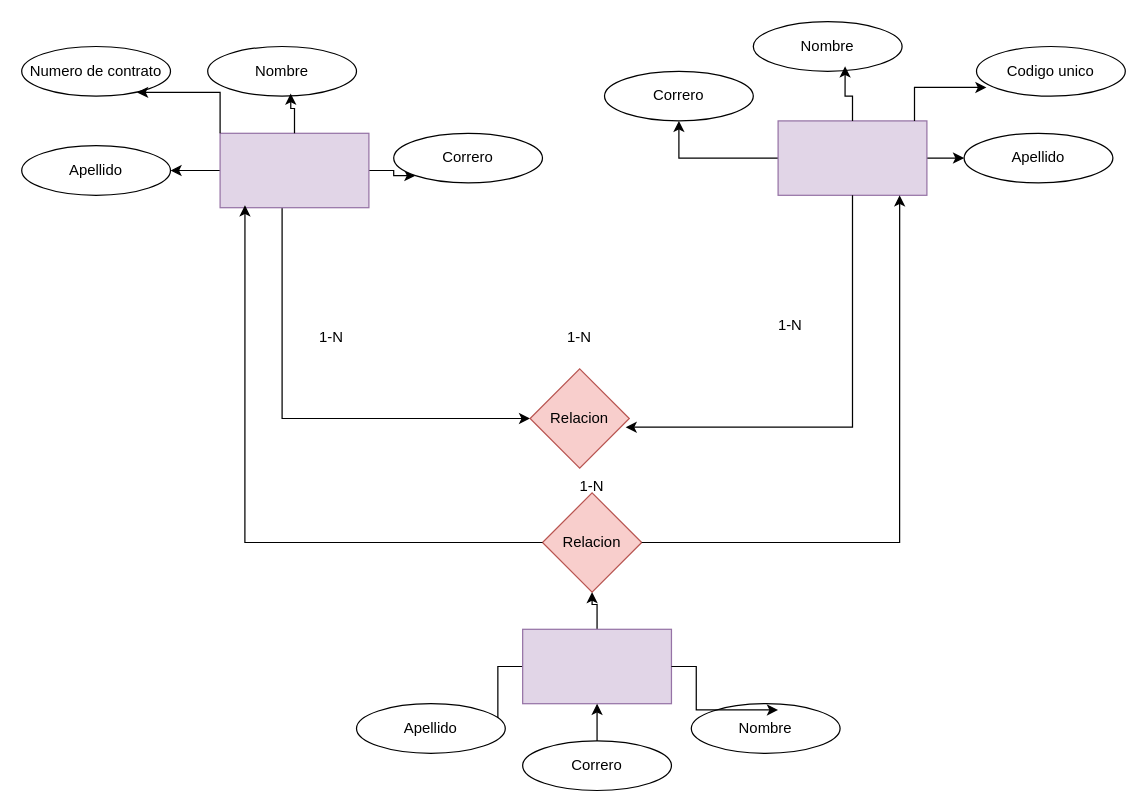
The diagram is 1147 pixels wide and 812 high, and some of its shapes have lost their labels. The box of each missing label's shape, as (x1, y1, x2, y2) in pixels:
Estudiante: (777, 120, 927, 195)
Profesor: (219, 132, 369, 208)
Registro datos basicos: (521, 628, 671, 704)
